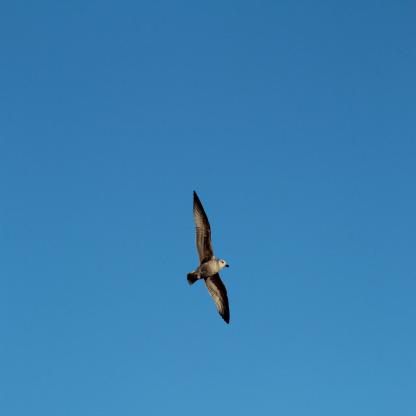bird: (186, 189, 232, 325)
